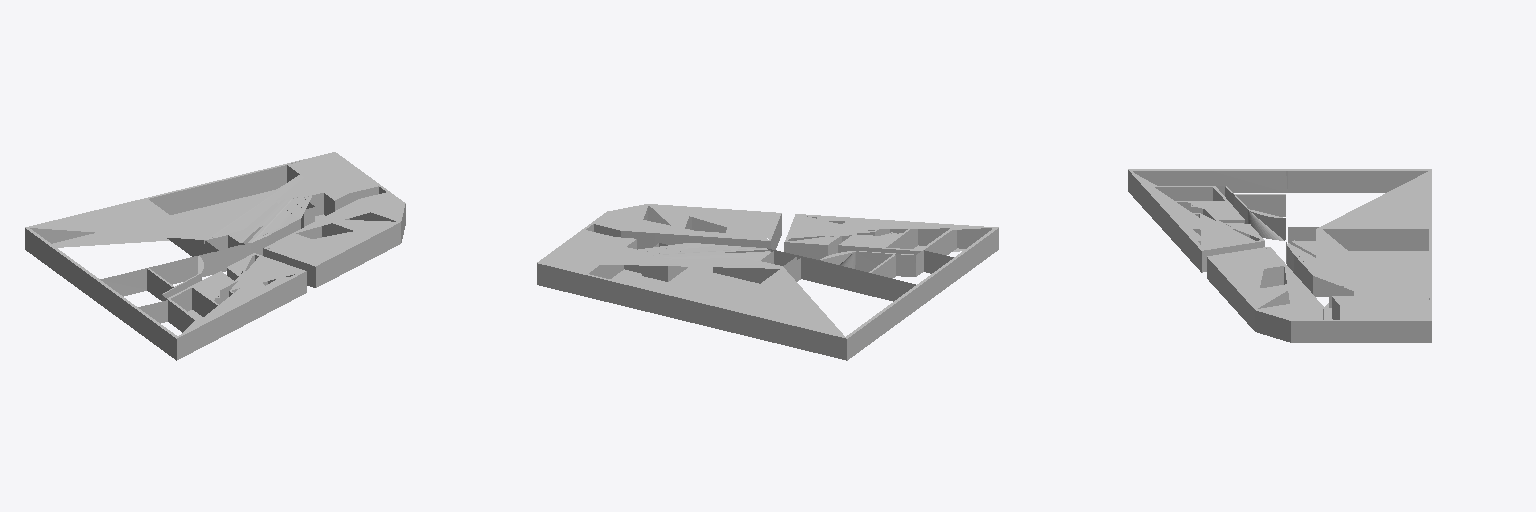
File: IPMDesign_PlantaBaja.obj
3 views of the same model, side by side, from view 1: azimuth 30°, elevation 25°; view 2: azimuth 150°, elevation 25°; view 3: azimuth 270°, elevation 25° (orthographic).
Visible parts, largest first — view 1: IPM_PlantaBaja_Plane; view 2: IPM_PlantaBaja_Plane; view 3: IPM_PlantaBaja_Plane.
Part boxes in pixels (bbox=[...]): IPM_PlantaBaja_Plane: bbox=[25, 152, 405, 360]; IPM_PlantaBaja_Plane: bbox=[537, 204, 998, 360]; IPM_PlantaBaja_Plane: bbox=[1128, 169, 1431, 342].
Bounding box in the file's own units: 18.58 × 1.28 × 15.75.